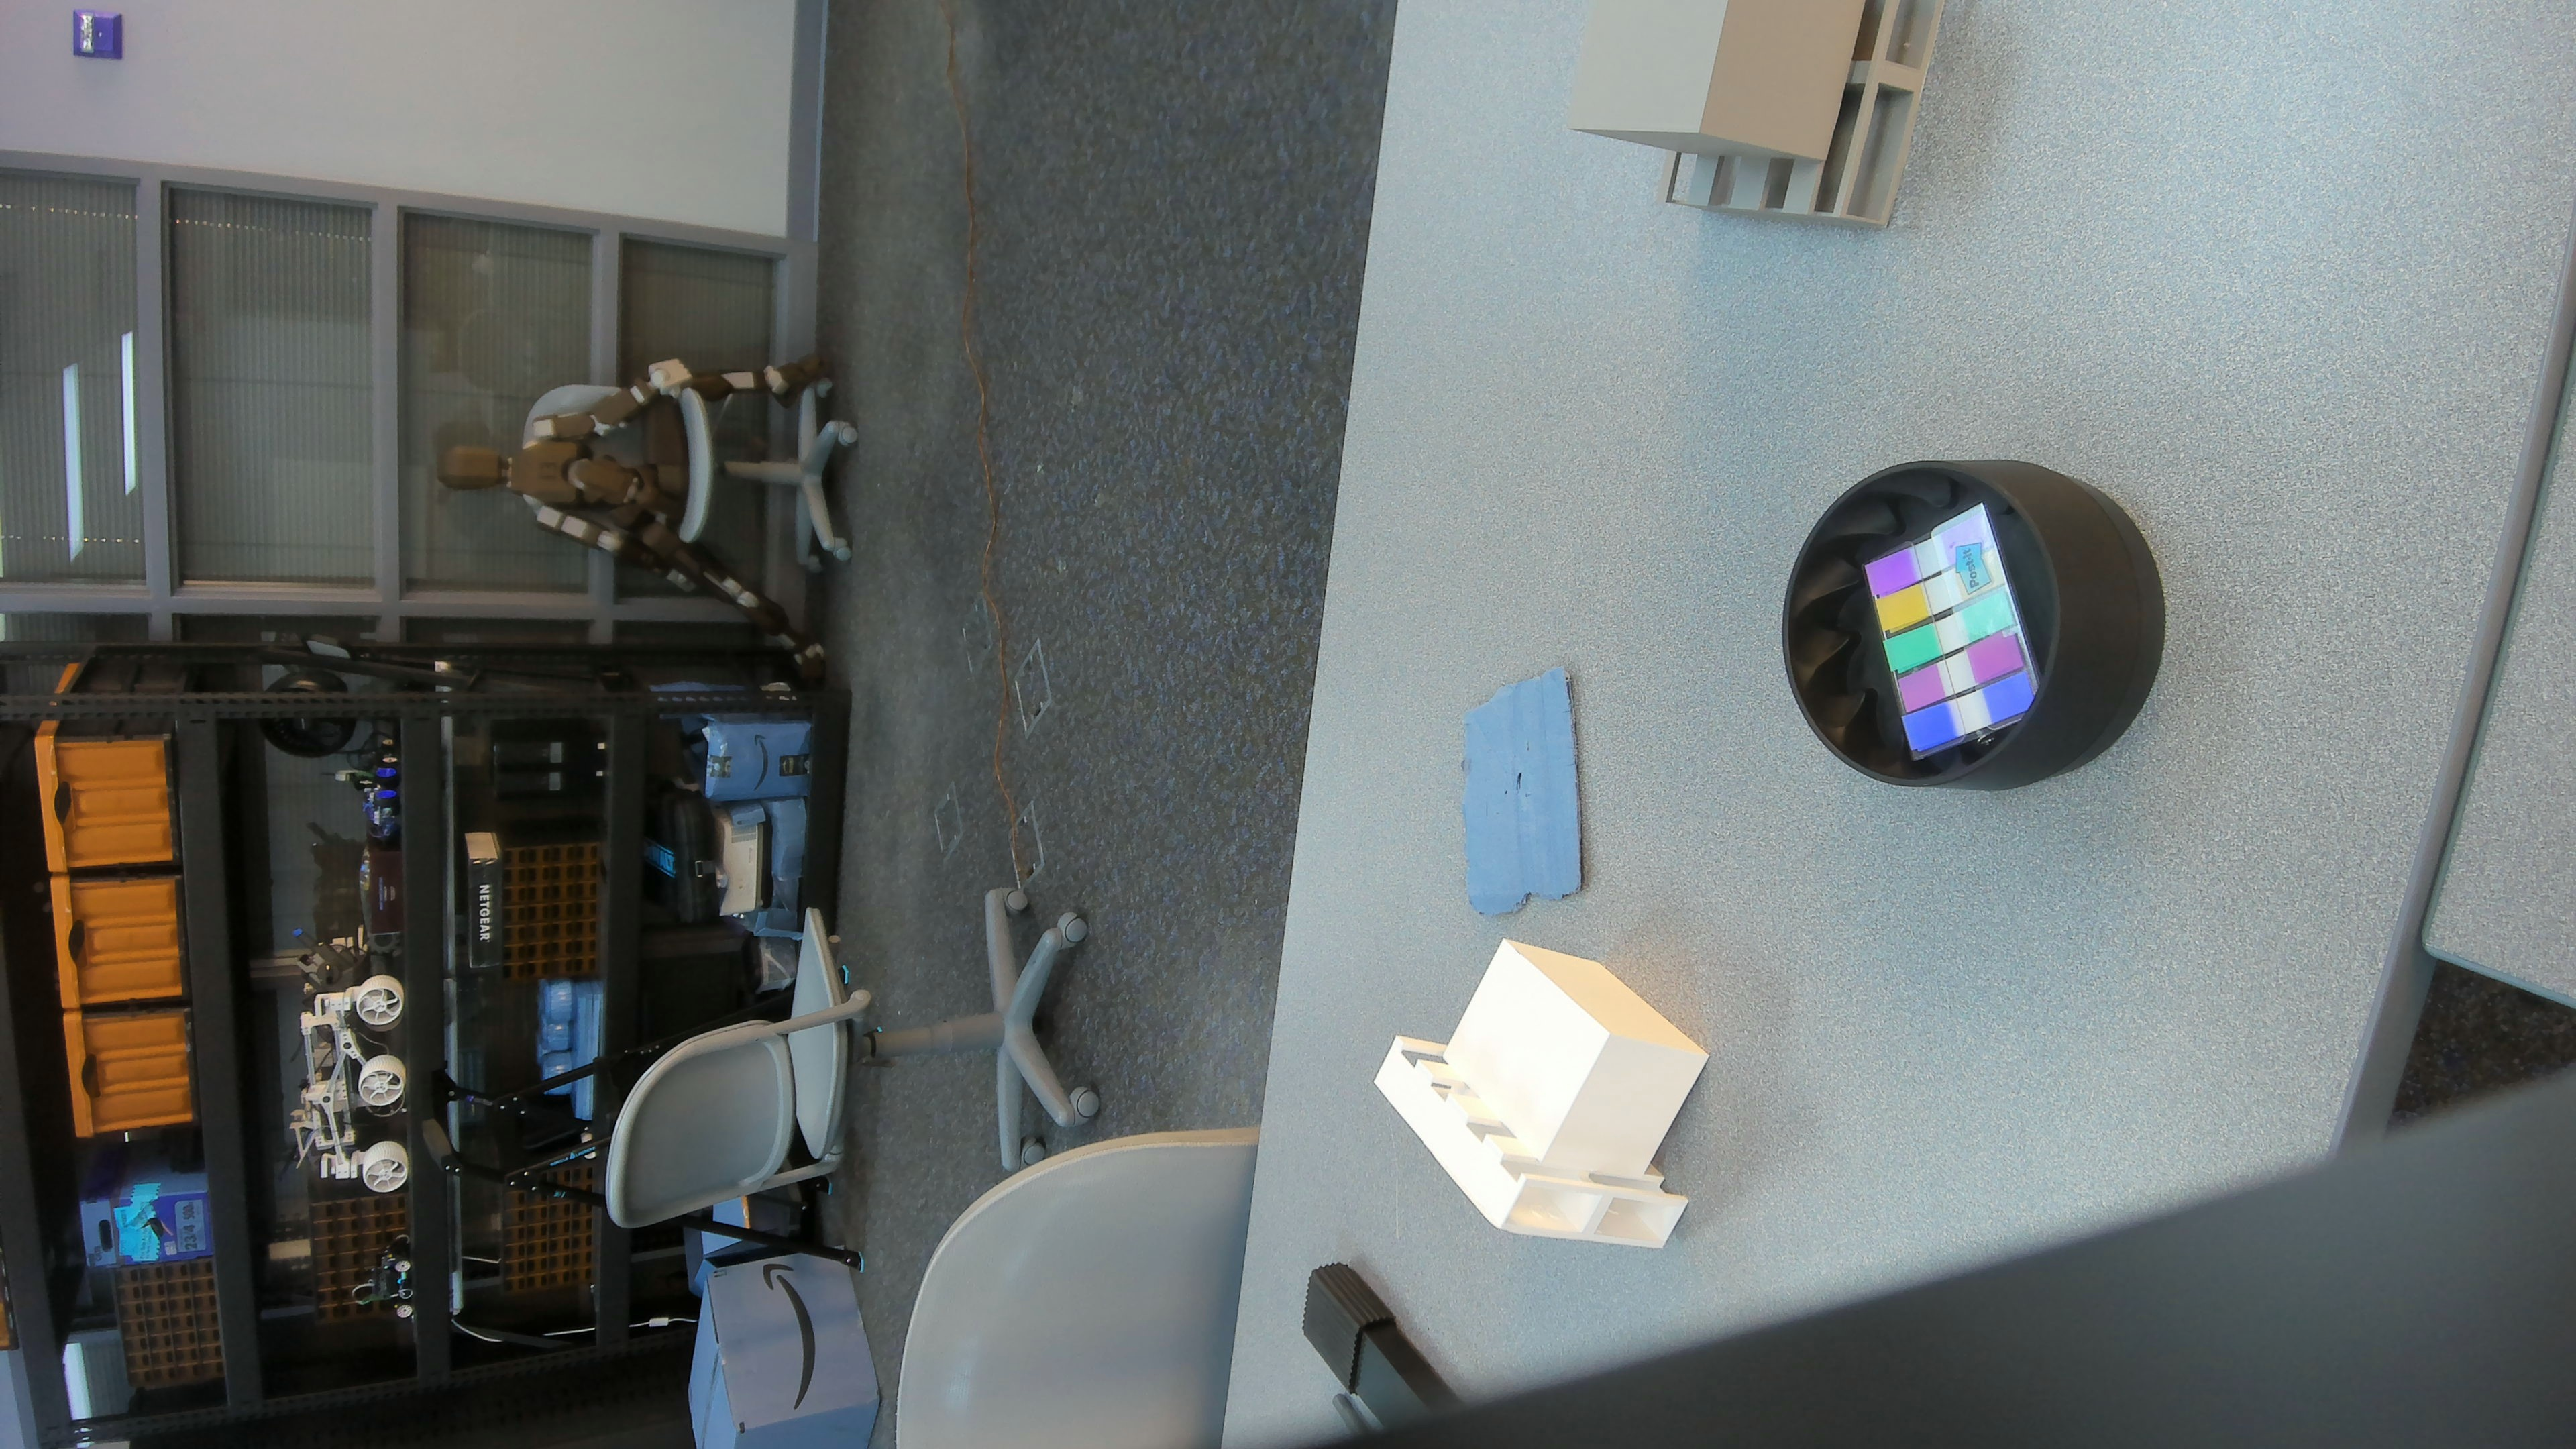grey pallet: (1553, 0, 1971, 241)
white pallet: (1369, 927, 1718, 1253)
